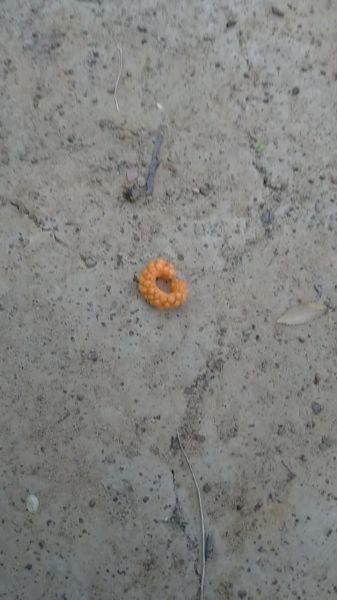eggs: (133, 243, 199, 319)
